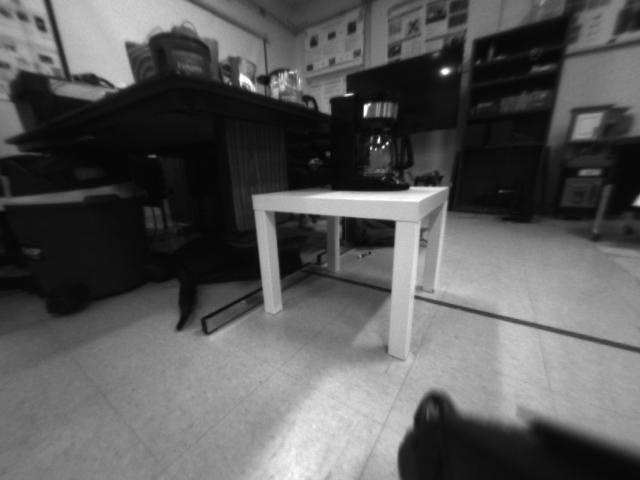coffee_pot: (325, 91, 420, 193)
